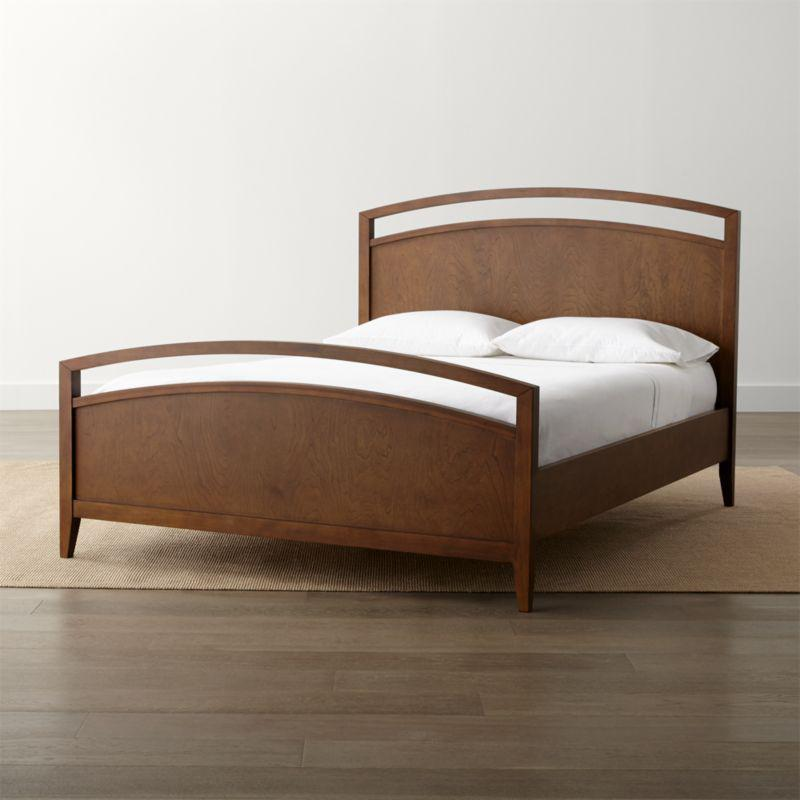bed: (41, 184, 764, 623)
